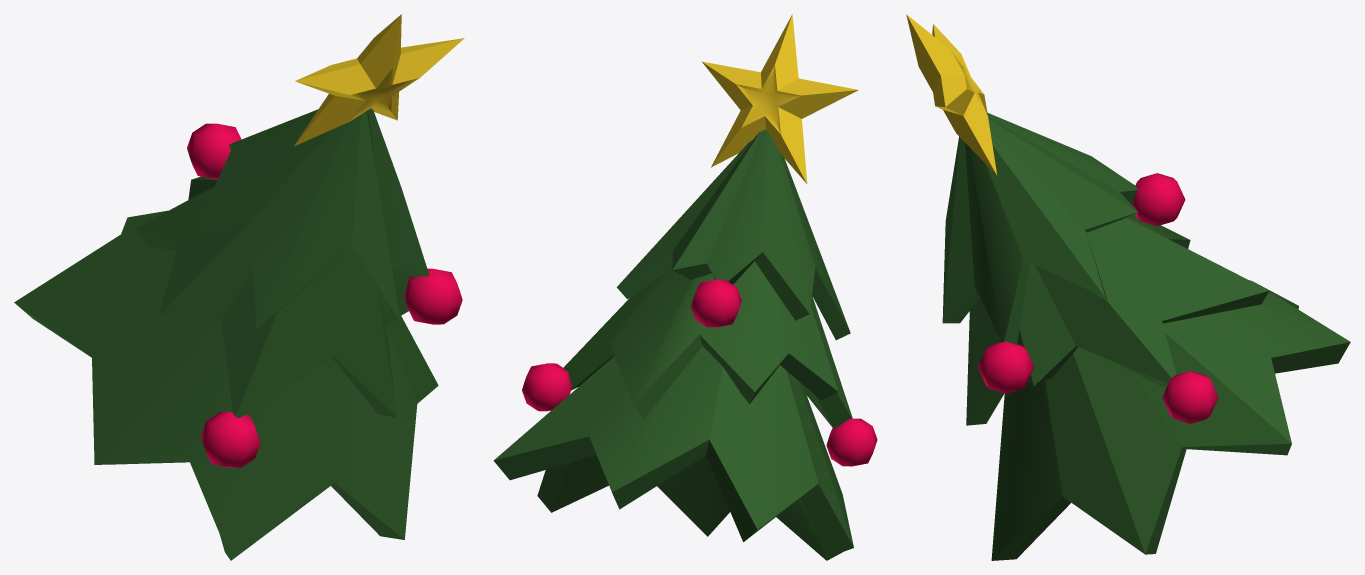
File: tree_christmas_2022.glb
3 renders of one model, left to right at view 1: azimuth 30°, elevation 25°; view 2: azimuth 150°, elevation 25°; view 3: azimuth 270°, elevation 25°, orthographic. The views are drawn at different scales.
Parts seen in each view (by area): view 1: 0.133, 1.078, 2.042; view 2: 0.133, 1.078, 2.042; view 3: 0.133, 2.042, 1.078.
Boxes of the visible parts, x1,y1,x2,y2 form: 0.133: (14, 108, 438, 560); 1.078: (294, 14, 464, 146); 2.042: (187, 123, 462, 467); 0.133: (493, 129, 853, 560); 1.078: (702, 14, 858, 183); 2.042: (522, 279, 877, 466); 0.133: (942, 112, 1350, 560); 2.042: (978, 173, 1218, 423); 1.078: (906, 14, 997, 175).
Size of the model in its own units: 0.5199 by 0.8014 by 0.6117.
